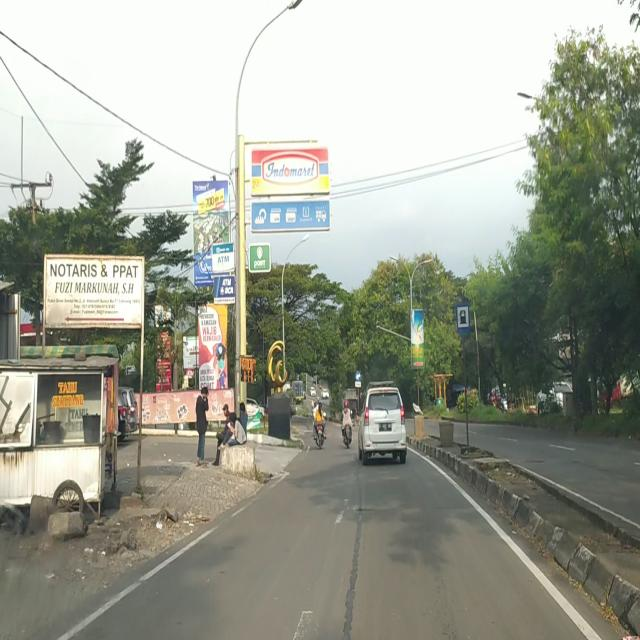Sewer Cover: (352, 503, 472, 513)
